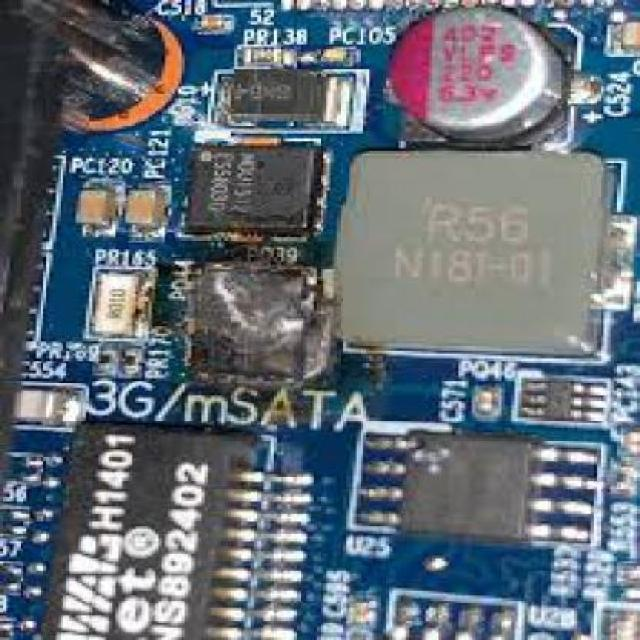Burn: (166, 246, 342, 385), (175, 119, 322, 244), (34, 11, 163, 111)
